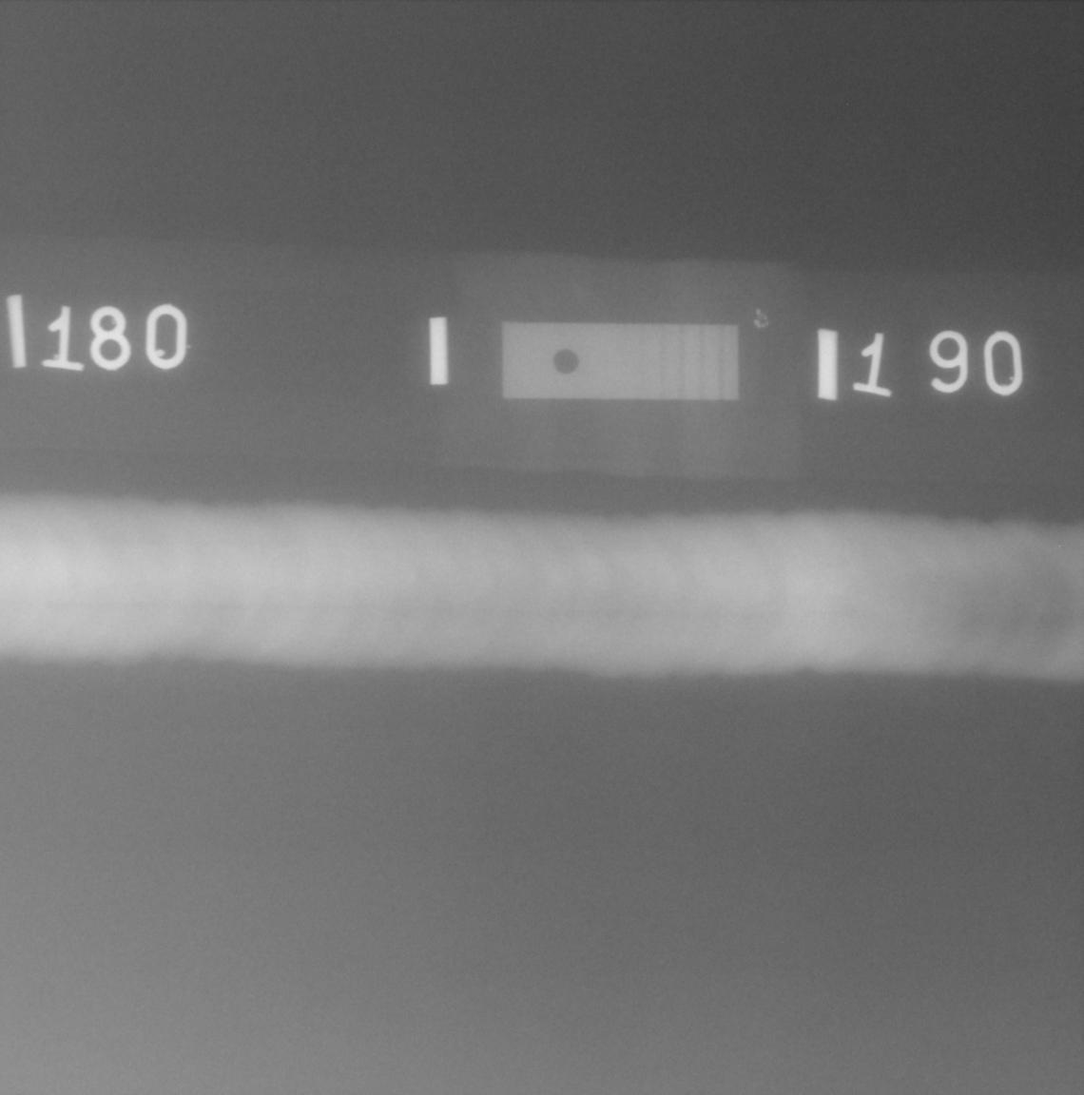Reference Standard 1: (501, 321, 739, 401)
